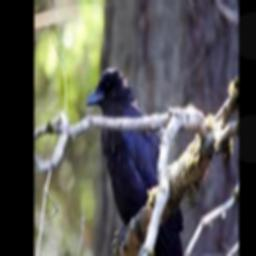Crow: (86, 66, 192, 256)
